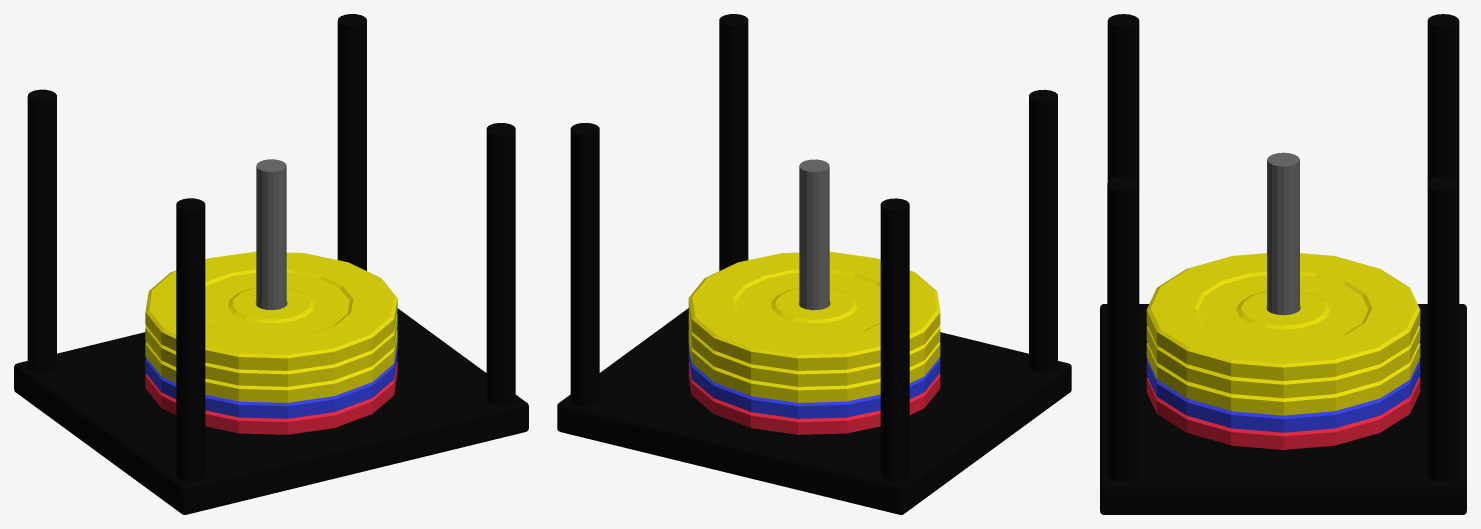
The model's file is SledGoal.fbx.
3 renders of one model, left to right at view 1: azimuth 30°, elevation 25°; view 2: azimuth 150°, elevation 25°; view 3: azimuth 270°, elevation 25°, orthographic. The views are drawn at different scales.
Visible parts, largest first — view 1: SledGoal; view 2: SledGoal; view 3: SledGoal.
Boxes of the visible parts, left/top/right/bottom form: SledGoal: left=14, top=14, right=528, bottom=514; SledGoal: left=557, top=14, right=1071, bottom=514; SledGoal: left=1100, top=14, right=1466, bottom=514.
Size of the model in its own units: 118 by 97.17 by 100.
